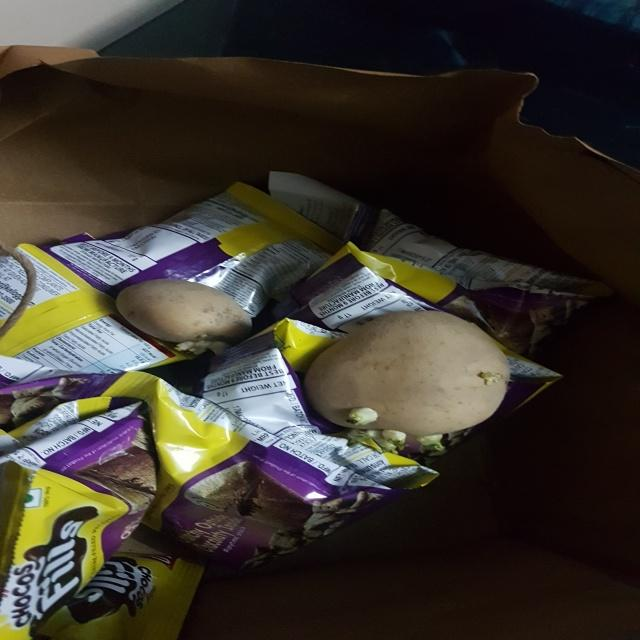potato: (301, 307, 520, 453), (114, 272, 256, 361)
